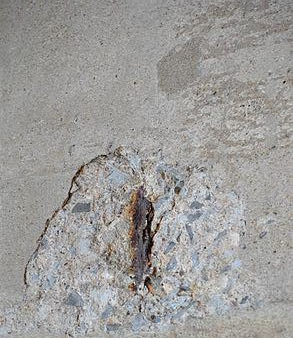Exposed reinforcement: (126, 185, 154, 291)
Spalling: (1, 145, 255, 334)
